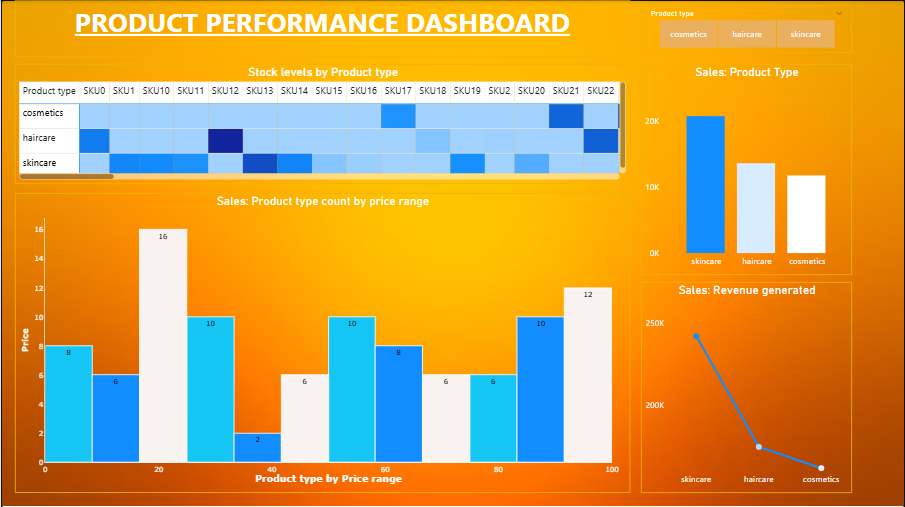

Layout of this report page (visuals, bound fields, positions):
{"tool":"powerbi","page":{"name":"Product Performance Dashboard","canvas":[1280,720],"ordinal":0},"visuals":[{"type":"columnChart","title":"Sales: Product Type","fields":{"Category":["supply_chain_data.Product type"],"Y":["Sum(supply_chain_data.Number of products sold)"]},"box":[907.1,90.7,299.1,299.1],"z":0},{"type":"textbox","box":[19.8,0,871.7,80.8],"z":1000},{"type":"lineChart","title":"Sales: Revenue generated","fields":{"Category":["supply_chain_data.Product type"],"Y":["Sum(supply_chain_data.Revenue generated)"]},"box":[907.1,399.7,299.1,299.1],"z":2000},{"type":"histogramF963F133BA02A0B35D286F09F80E9C78","title":"Sales: Product type count by price range","fields":{"col_2":["supply_chain_data.Price"],"col_1":["supply_chain_data.Product type"]},"box":[19.8,273.5,871.7,425.2],"z":3000},{"type":"pivotTable","title":"Stock levels by Product type","fields":{"Values":["Sum(supply_chain_data.Stock levels)"],"Rows":["supply_chain_data.Product type"],"Columns":["supply_chain_data.SKU"]},"box":[19.8,90.7,871.7,170.1],"z":4000},{"type":"slicer","title":"Sales: Product Type","fields":{"Values":["supply_chain_data.Product type"]},"box":[907.1,7.1,299.1,68],"z":5000}]}

Visuals, with their boxes in screenshot pixels (x1, y1, x2, y2), scaled from the page's 1280x720 canvas onto the 905x507 screenshot:
"Sales: Product Type" columnChart: (left=641, top=64, right=853, bottom=274)
textbox: (left=14, top=0, right=630, bottom=57)
"Sales: Revenue generated" lineChart: (left=641, top=281, right=853, bottom=492)
"Sales: Product type count by price range" histogramF963F133BA02A0B35D286F09F80E9C78: (left=14, top=193, right=630, bottom=492)
"Stock levels by Product type" pivotTable: (left=14, top=64, right=630, bottom=184)
"Sales: Product Type" slicer: (left=641, top=5, right=853, bottom=53)
